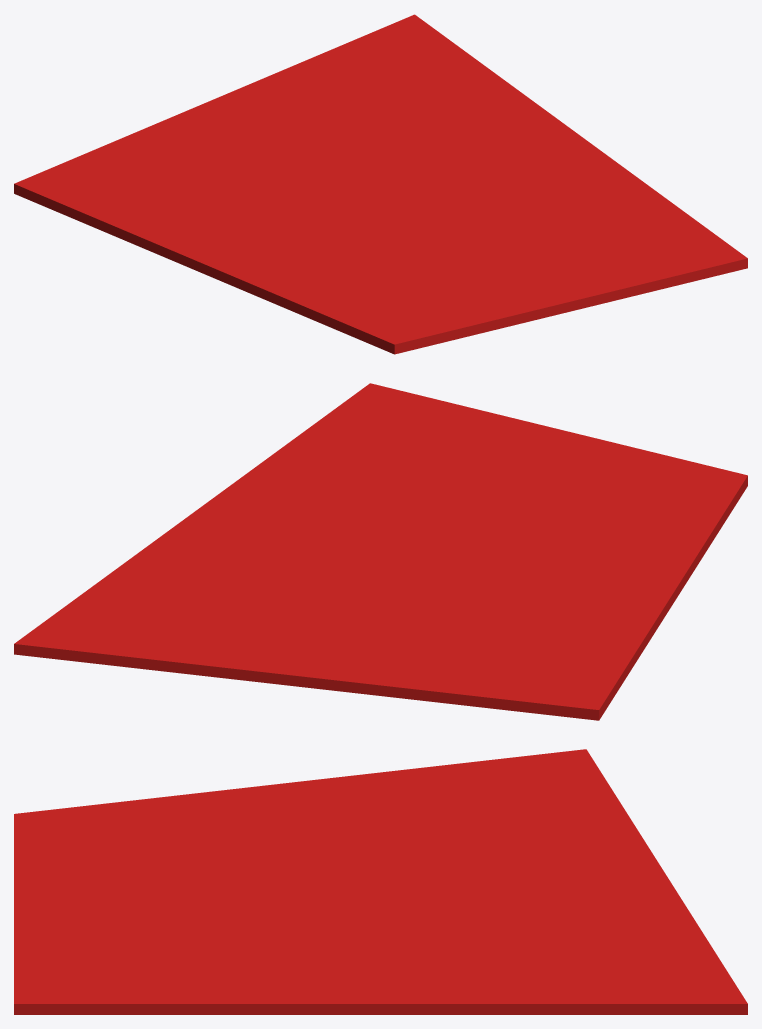
The model's file is vermelho.fbx.
3 views of the same model, one above another, from view 1: azimuth 30°, elevation 25°; view 2: azimuth 150°, elevation 25°; view 3: azimuth 270°, elevation 25° (orthographic). The views are drawn at different scales.
Visible parts, largest first — view 1: Cube; view 2: Cube; view 3: Cube.
Boxes of the visible parts, <box> form: Cube: <box>14,14,747,354</box>; Cube: <box>14,383,747,720</box>; Cube: <box>14,749,747,1014</box>.
Size of the model in its own units: 1250 by 25 by 1522.
